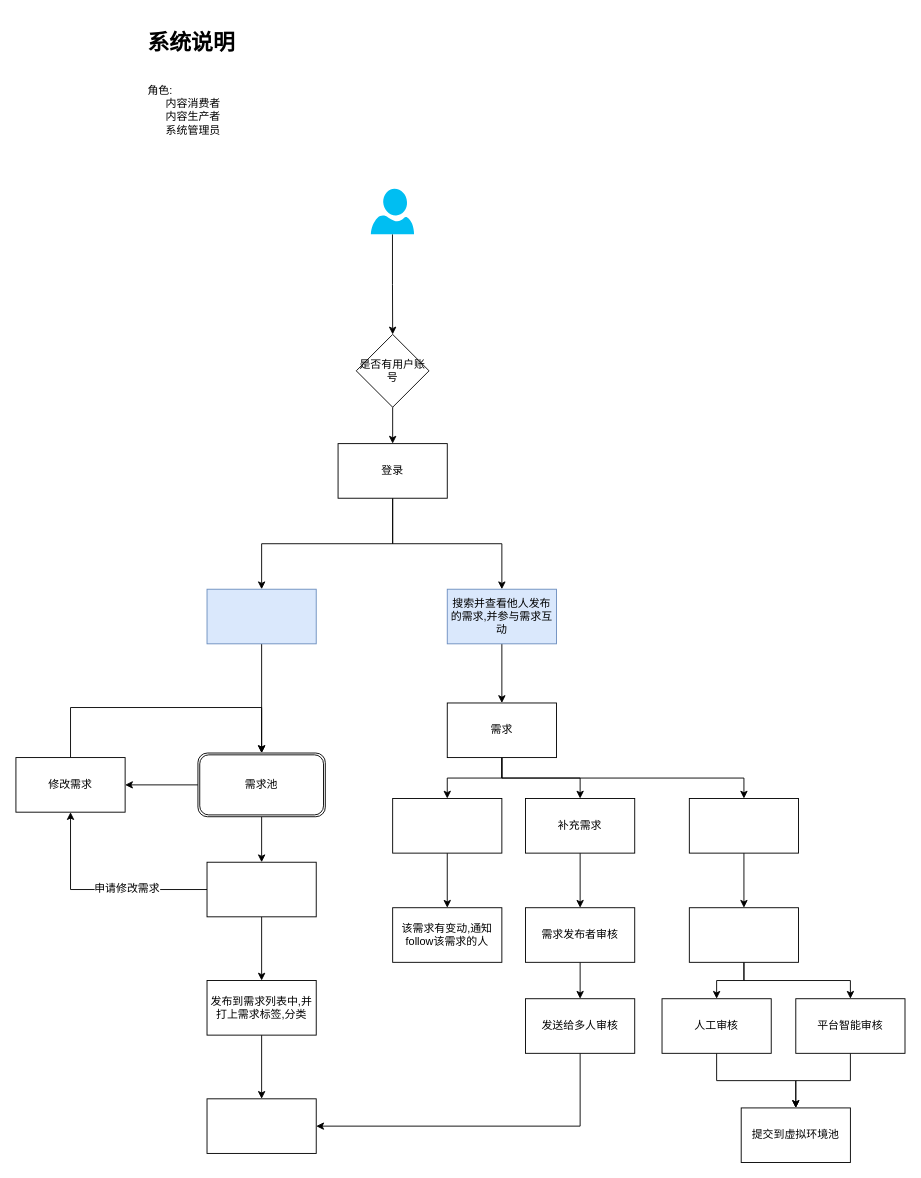
The diagram is 921 pixels wide and 1178 high, and some of its shapes have lost their labels. The shapes that lost their labels are listed below. From the top down, each one's box as (x1, y1, x2, y2) in pixels, then its label:
(370, 188, 414, 234): 内容消费者
(206, 588, 316, 644): 发布新需求
(392, 798, 502, 853): follow
(688, 798, 799, 853): 撰写需求方案
(206, 861, 316, 917): 审核
(688, 907, 799, 962): 提交平台审核
(206, 1098, 316, 1153): 用户信用分累积
